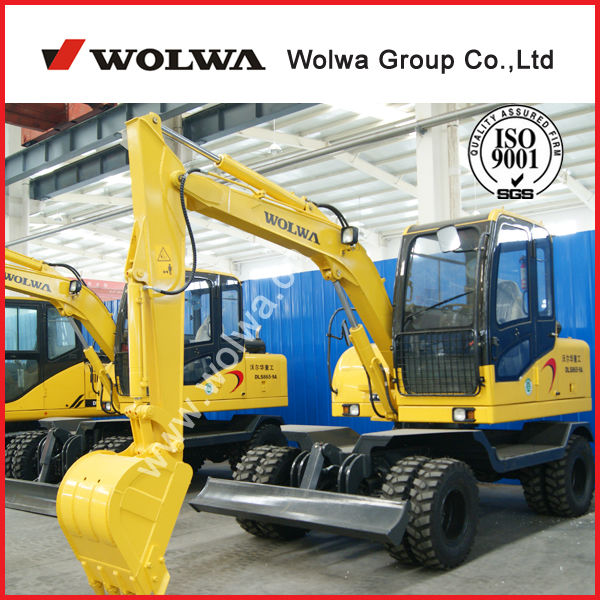backhoe: (56, 108, 389, 593)
